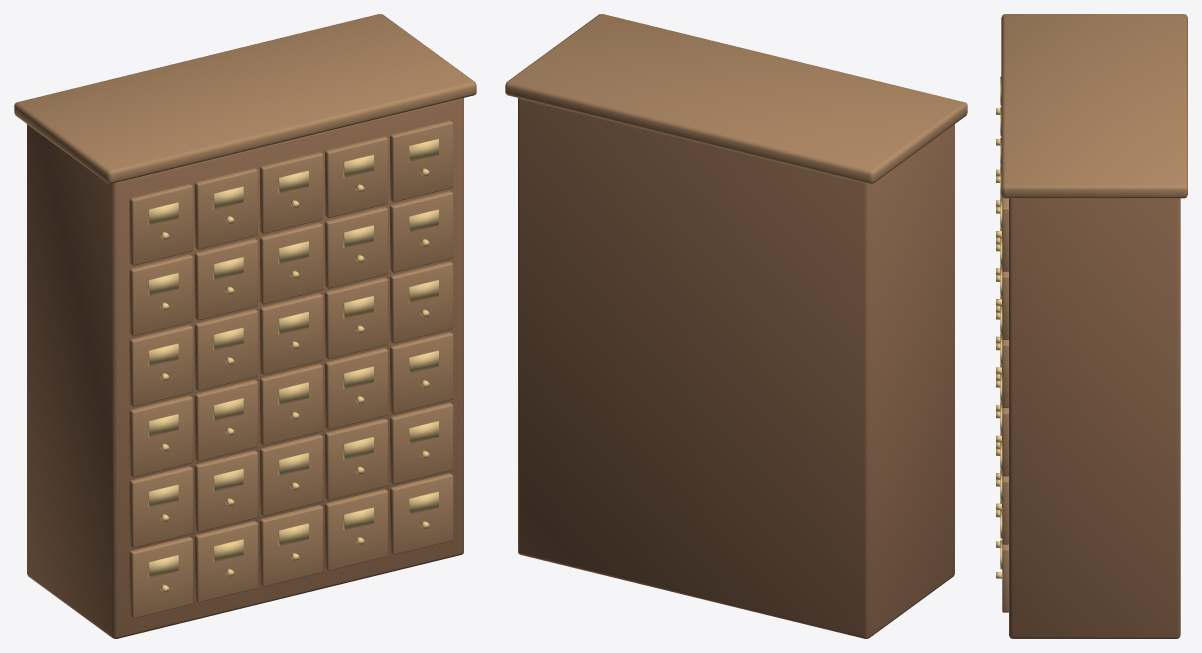
Rendered from v2_button_cabinet.fbx.
3 renders of one model, left to right at view 1: azimuth 30°, elevation 25°; view 2: azimuth 150°, elevation 25°; view 3: azimuth 270°, elevation 25°, orthographic. The views are drawn at different scales.
Visible parts, largest first — view 1: Carcass, Top.001, BDrawer00, BDrawer21, BDrawer31, BDrawer40, BDrawer51, BDrawer20, BDrawer10, BDrawer30, BDrawer41, BDrawer50 (+20 smaller); view 2: Carcass, Top.001; view 3: Carcass, Top.001, BDrawer54, BDrawer24, BDrawer44, BDrawer04, BDrawer14, BDrawer34.
Part boxes in pixels (x1,y1,x2,y2): Carcass: (27,98,463,638); Top.001: (14,14,476,183); BDrawer00: (129,536,192,618); BDrawer21: (194,379,257,461); BDrawer31: (194,309,257,390); BDrawer40: (129,254,192,336); BDrawer51: (194,168,257,249); BDrawer20: (129,395,192,477); BDrawer10: (129,466,192,547); BDrawer30: (129,325,192,406); BDrawer41: (194,238,257,320); BDrawer50: (129,184,192,265); Carcass: (518,98,954,638); Top.001: (505,14,967,183); Carcass: (1009,198,1180,638); Top.001: (1001,14,1187,198); BDrawer54: (1002,197,1008,271); BDrawer24: (1002,407,1008,476); BDrawer44: (1002,271,1008,339); BDrawer04: (1002,544,1008,612); BDrawer14: (1002,476,1008,544); BDrawer34: (1002,339,1008,407).
Bounding box in the file's own units: 0.84 × 1.03 × 0.391.
